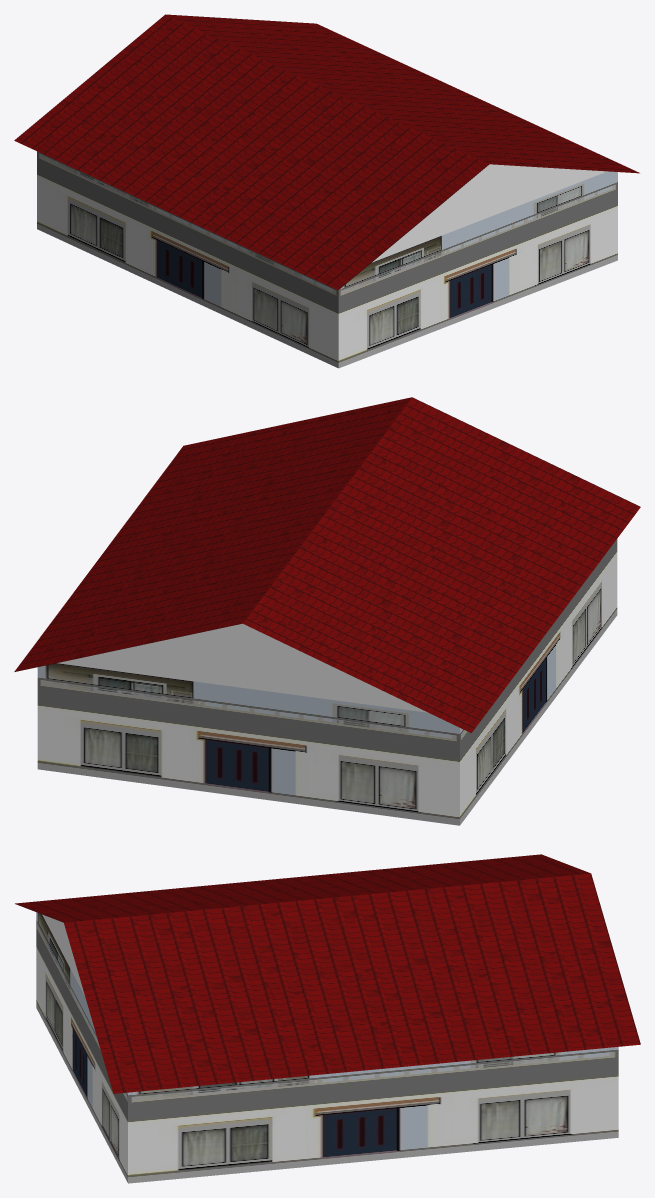
3 renders of one model, top to bottom at view 1: azimuth 30°, elevation 25°; view 2: azimuth 150°, elevation 25°; view 3: azimuth 270°, elevation 25°, orthographic. The views are drawn at different scales.
Visible parts, largest first — view 1: CityEngineMaterial_17_m, CityEngineMaterial_7_m, CityEngineMaterial_3_m; view 2: CityEngineMaterial_17_m, CityEngineMaterial_7_m, CityEngineMaterial_3_m; view 3: CityEngineMaterial_17_m, CityEngineMaterial_7_m, CityEngineMaterial_3_m.
Boxes of the visible parts, x1,y1,x2,y2 form: CityEngineMaterial_17_m: (14, 14, 639, 290); CityEngineMaterial_7_m: (37, 151, 617, 368); CityEngineMaterial_3_m: (372, 164, 607, 262); CityEngineMaterial_17_m: (14, 397, 640, 733); CityEngineMaterial_7_m: (37, 539, 617, 825); CityEngineMaterial_3_m: (57, 623, 427, 712); CityEngineMaterial_17_m: (15, 854, 640, 1093); CityEngineMaterial_7_m: (36, 912, 618, 1183); CityEngineMaterial_3_m: (42, 914, 85, 996).
Size of the model in its own units: 30.01 by 10.21 by 33.19.
